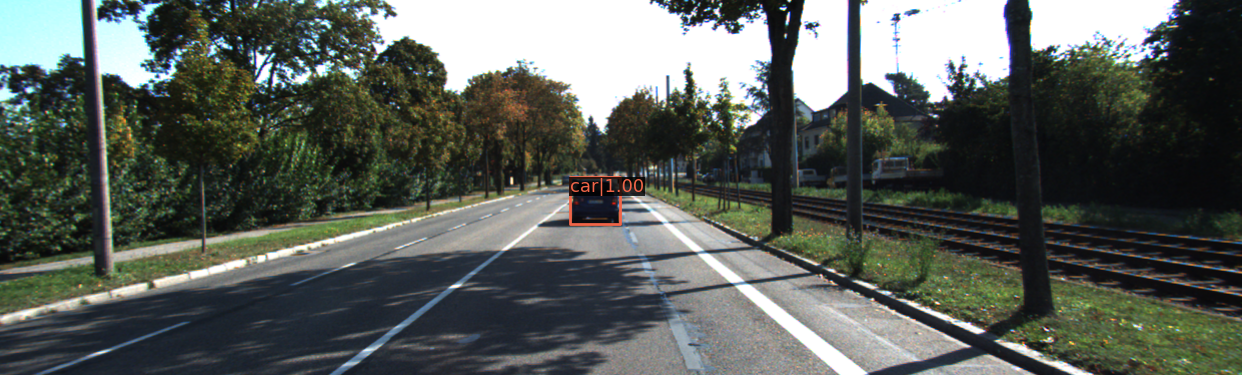car: (571, 178, 621, 226)
